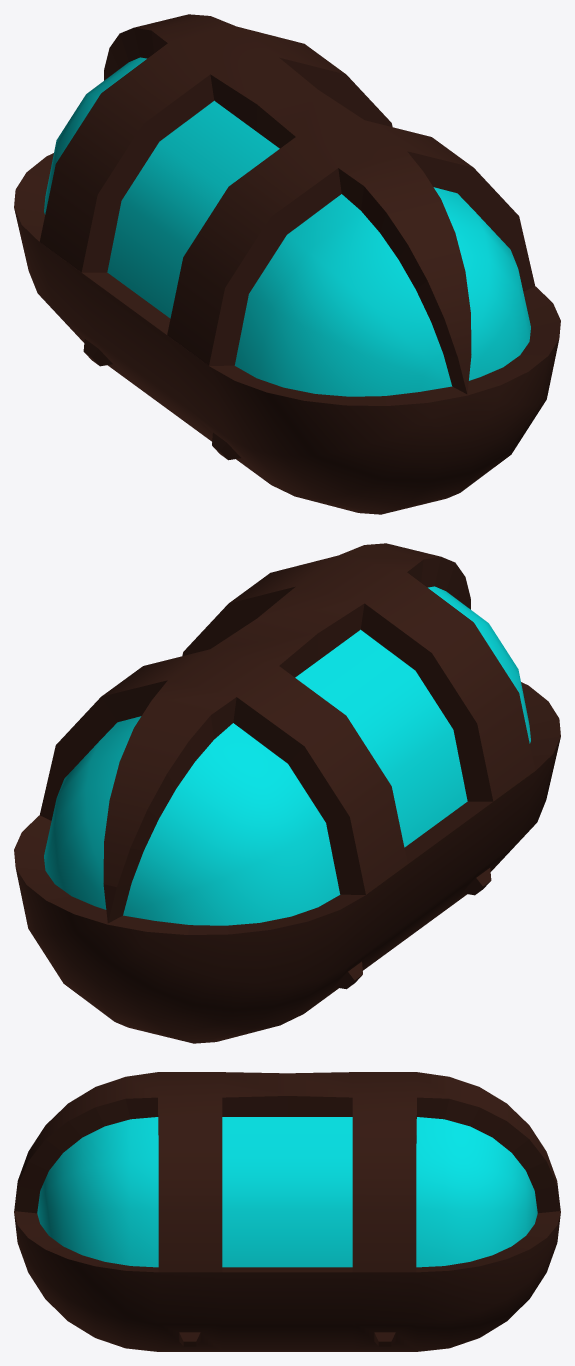
Rendered from capsula.FBX.
3 views of the same model, one above another, from view 1: azimuth 30°, elevation 25°; view 2: azimuth 150°, elevation 25°; view 3: azimuth 270°, elevation 25° (orthographic). The views are drawn at different scales.
Visible parts, largest first — view 1: Capsule001; view 2: Capsule001; view 3: Capsule001.
Part boxes in pixels (x1,y1,x2,y2): Capsule001: (14,14,560,514); Capsule001: (14,543,560,1043); Capsule001: (14,1072,560,1351).
Bounding box in the file's own units: 48.92 × 47.77 × 93.31.
